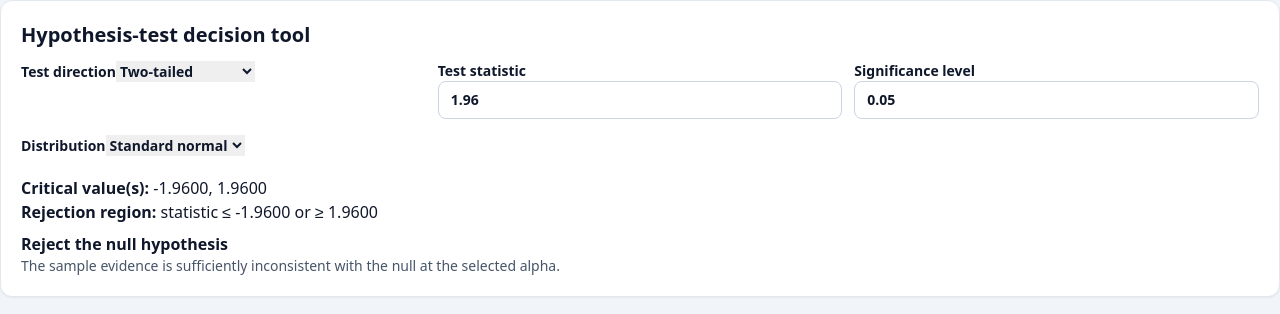
Test: v1.5 learning tools › exposes accessible hypothesis controls and fail-to-reject wording
The width and height of the screenshot is (1280, 314).
Replace the text in the number field labelled "Test statistic" with "0" at (640, 100), box [438,81,842,119]
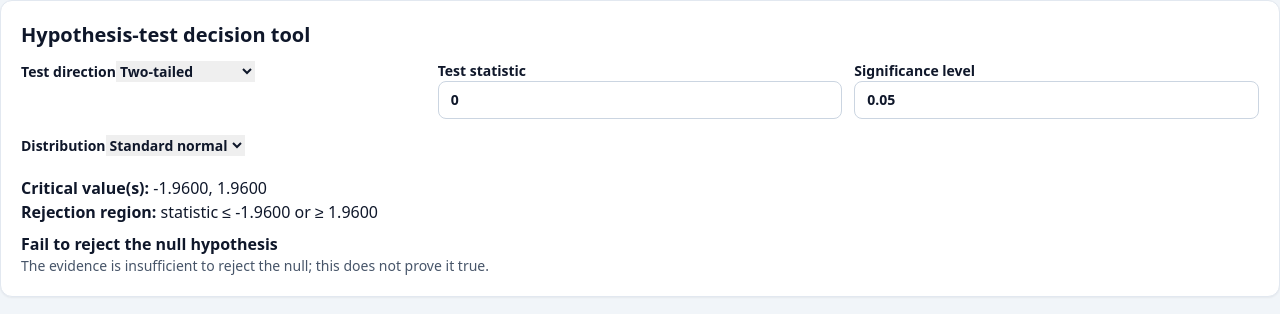
Check: the text "Fail to reject the null hypothesis" is shown, box [21,233,278,255]
